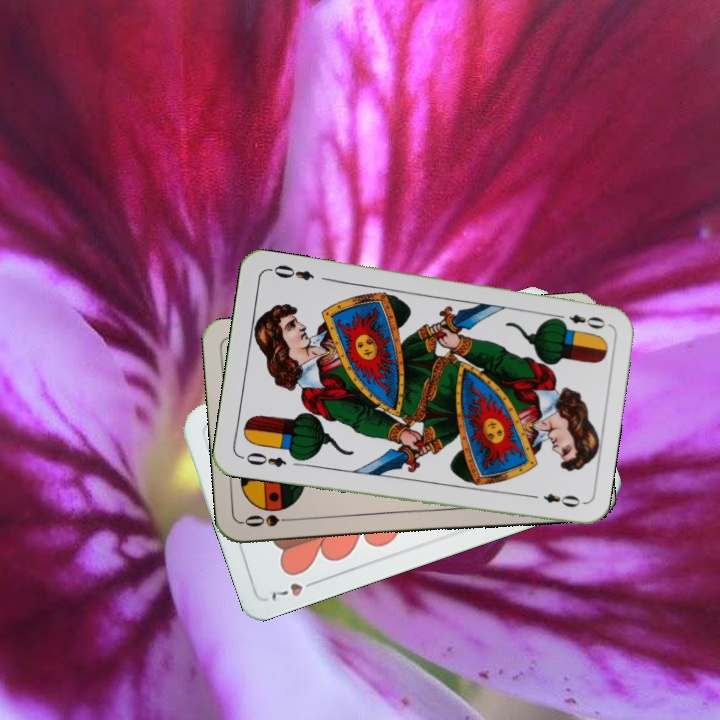EO: (551, 310, 608, 332), (237, 448, 289, 470)
H7: (265, 575, 322, 604)
SO: (240, 510, 300, 530)
